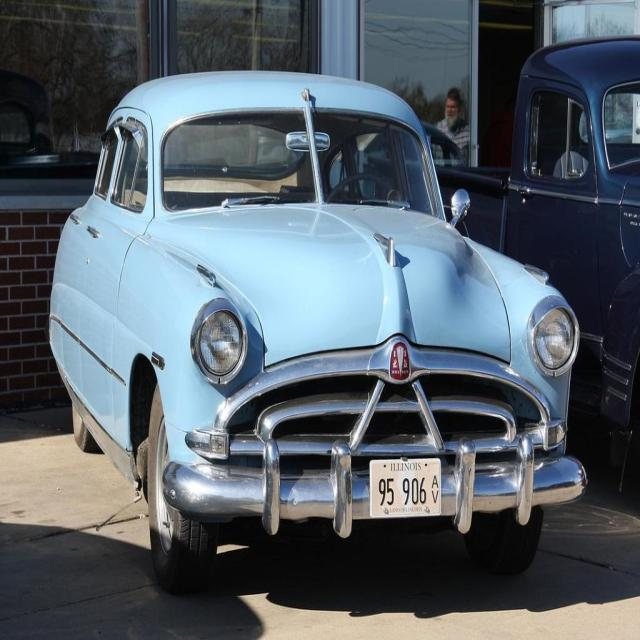car: (43, 64, 585, 582)
